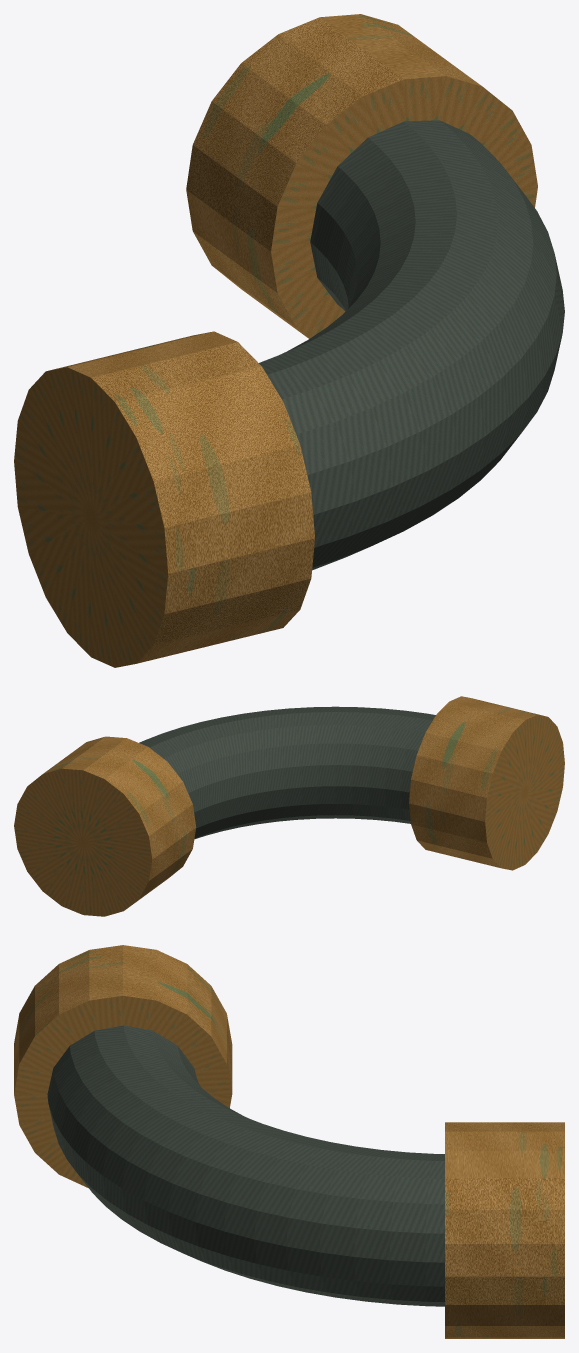
File: SM_PipeElbow_90deg.obj
The picture shows the model from 3 angles, top to bottom: view 1: azimuth 30°, elevation 25°; view 2: azimuth 150°, elevation 25°; view 3: azimuth 270°, elevation 25°; orthographic projection. The views are drawn at different scales.
Visible parts, largest first — view 1: Quarter_Bend_Pipe, End_BrassFlange, Start_BrassFlange; view 2: Quarter_Bend_Pipe, Start_BrassFlange, End_BrassFlange; view 3: Quarter_Bend_Pipe, Start_BrassFlange, End_BrassFlange.
Part boxes in pixels (left/top/right/bottom): Quarter_Bend_Pipe: left=259, top=120, right=564, bottom=570; End_BrassFlange: left=14, top=331, right=314, bottom=667; Start_BrassFlange: left=186, top=14, right=537, bottom=338; Quarter_Bend_Pipe: left=139, top=706, right=435, bottom=839; Start_BrassFlange: left=14, top=736, right=196, bottom=916; End_BrassFlange: left=409, top=696, right=564, bottom=870; Quarter_Bend_Pipe: left=47, top=1025, right=444, bottom=1306; Start_BrassFlange: left=445, top=1122, right=564, bottom=1338; End_BrassFlange: left=14, top=945, right=232, bottom=1187.
Size of the model in its own units: 1.01 by 0.4 by 1.01.
2 materials, 2 textured.
